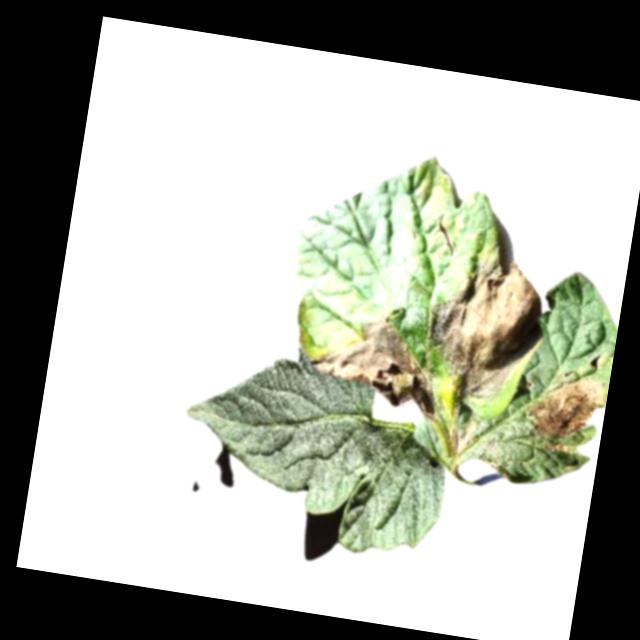Late_blight: (413, 238, 554, 411), (303, 305, 451, 420), (520, 365, 610, 447), (452, 415, 478, 457), (540, 438, 578, 455)
